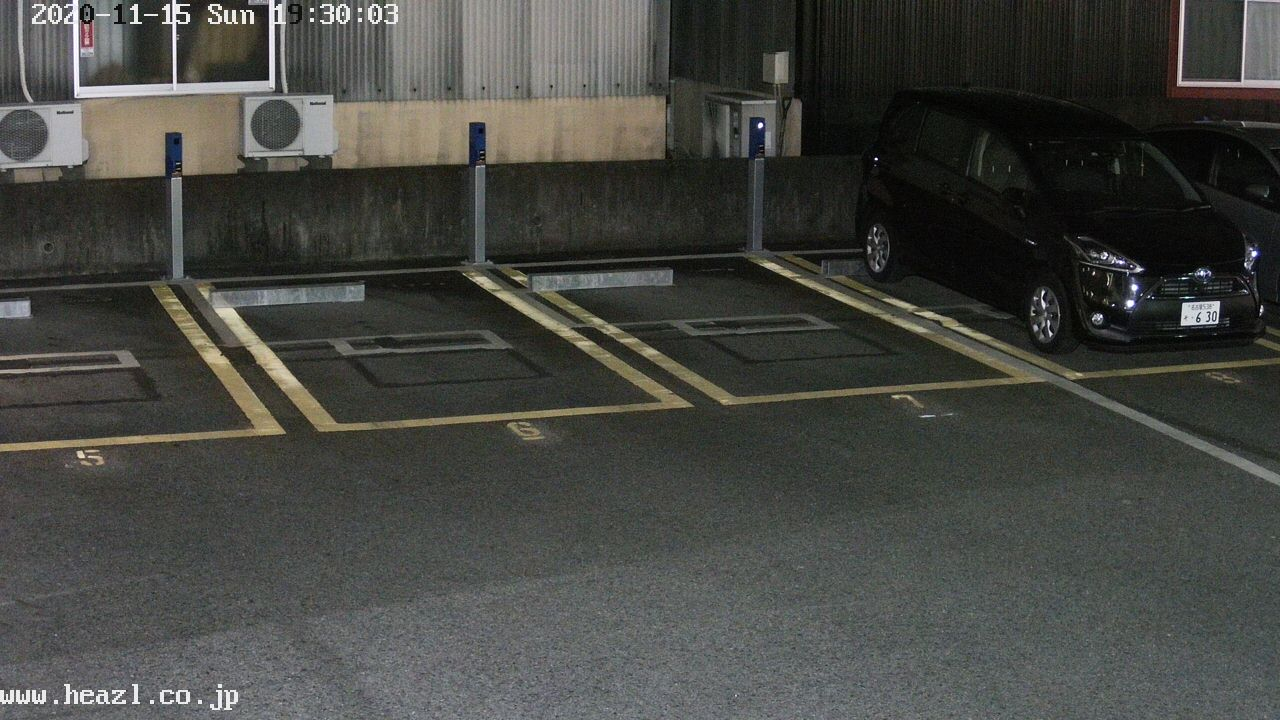number_plate: (1178, 302, 1222, 324)
